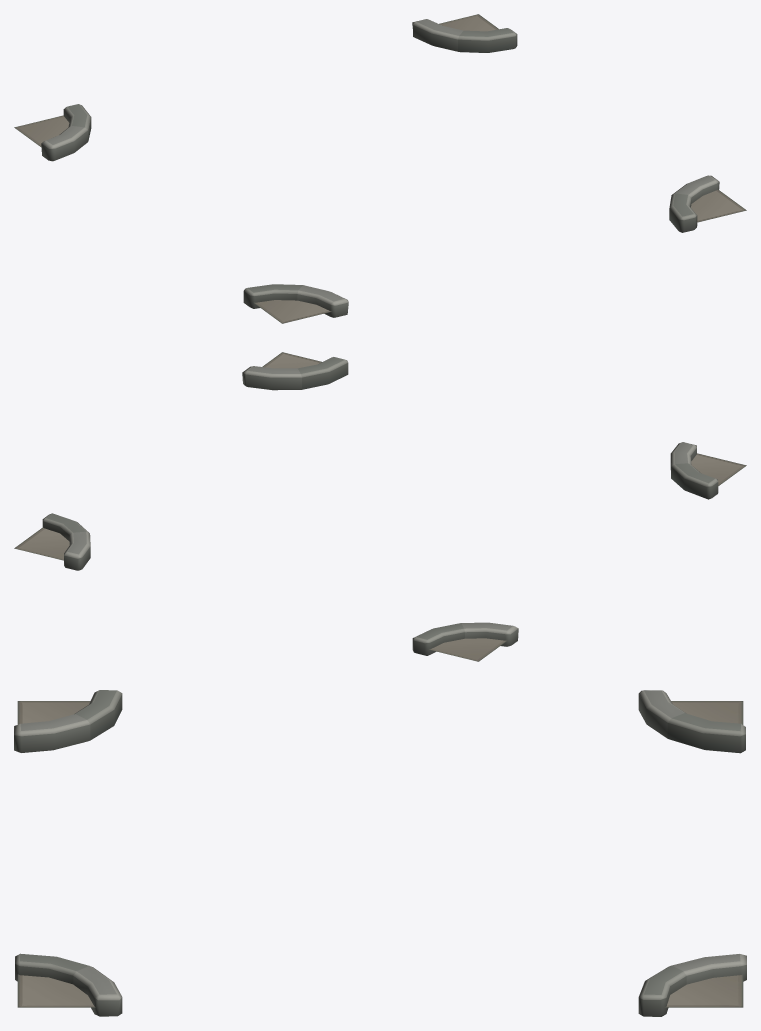
Rendered from cross.glb.
3 renders of one model, top to bottom at view 1: azimuth 30°, elevation 25°; view 2: azimuth 150°, elevation 25°; view 3: azimuth 270°, elevation 25°, orthographic. The views are drawn at different scales.
Parts seen in each view (by area): view 1: road_section_cross, road_section_cross_sidewalk; view 2: road_section_cross, road_section_cross_sidewalk; view 3: road_section_cross, road_section_cross_sidewalk.
Part boxes in pixels (box(x1,y1,x2,y2)): road_section_cross: box(41, 19, 719, 317); road_section_cross_sidewalk: box(14, 14, 746, 323); road_section_cross: box(42, 357, 718, 655); road_section_cross_sidewalk: box(14, 352, 746, 661); road_section_cross: box(14, 690, 746, 1016); road_section_cross_sidewalk: box(17, 701, 743, 1007).
Bounding box in the file's own units: 16.17 × 0.536 × 16.17.
Materials: 2 (2 with a texture image).
